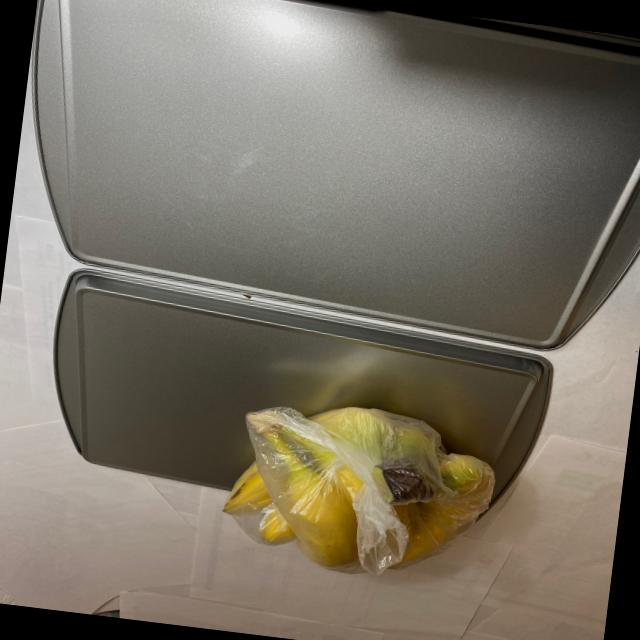banana: (214, 383, 511, 592)
